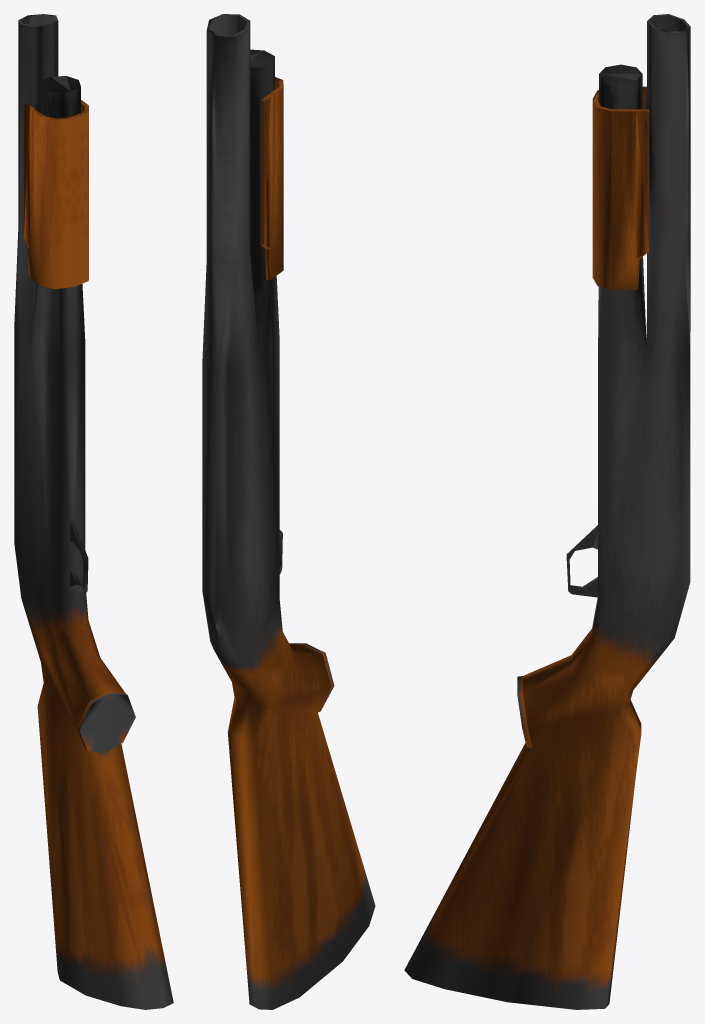
Rendered from RemingtonM870Sawn.fbx.
3 views of the same model, side by side, from view 1: azimuth 30°, elevation 25°; view 2: azimuth 150°, elevation 25°; view 3: azimuth 270°, elevation 25° (orthographic). The views are drawn at different scales.
Parts seen in each view (by area): view 1: node_ed0c22df_d6d4_44c1_8306_35fe6cc98b0f_mesh0; view 2: node_ed0c22df_d6d4_44c1_8306_35fe6cc98b0f_mesh0; view 3: node_ed0c22df_d6d4_44c1_8306_35fe6cc98b0f_mesh0.
Boxes of the visible parts, x1,y1,x2,y2 form: node_ed0c22df_d6d4_44c1_8306_35fe6cc98b0f_mesh0: (14, 14, 173, 1009); node_ed0c22df_d6d4_44c1_8306_35fe6cc98b0f_mesh0: (202, 14, 375, 1009); node_ed0c22df_d6d4_44c1_8306_35fe6cc98b0f_mesh0: (404, 14, 690, 1009).
Bounding box in the file's own units: 0.0308 × 0.4743 × 0.1253.
